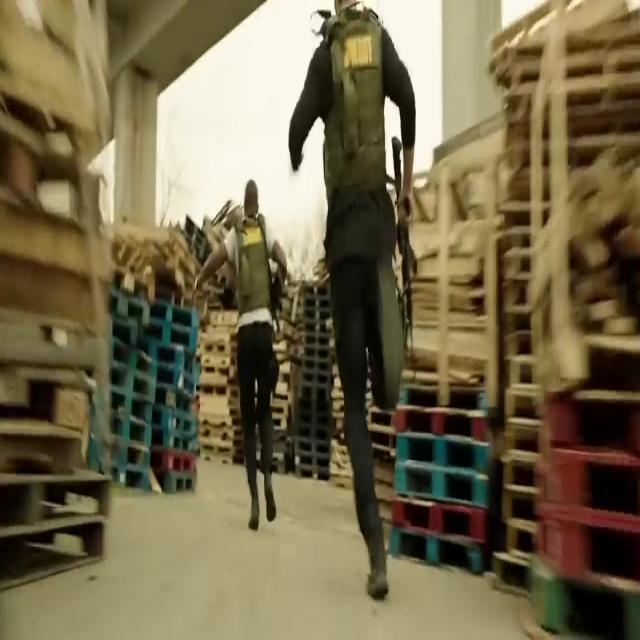Weapon: (386, 138, 422, 361), (269, 246, 298, 334)
